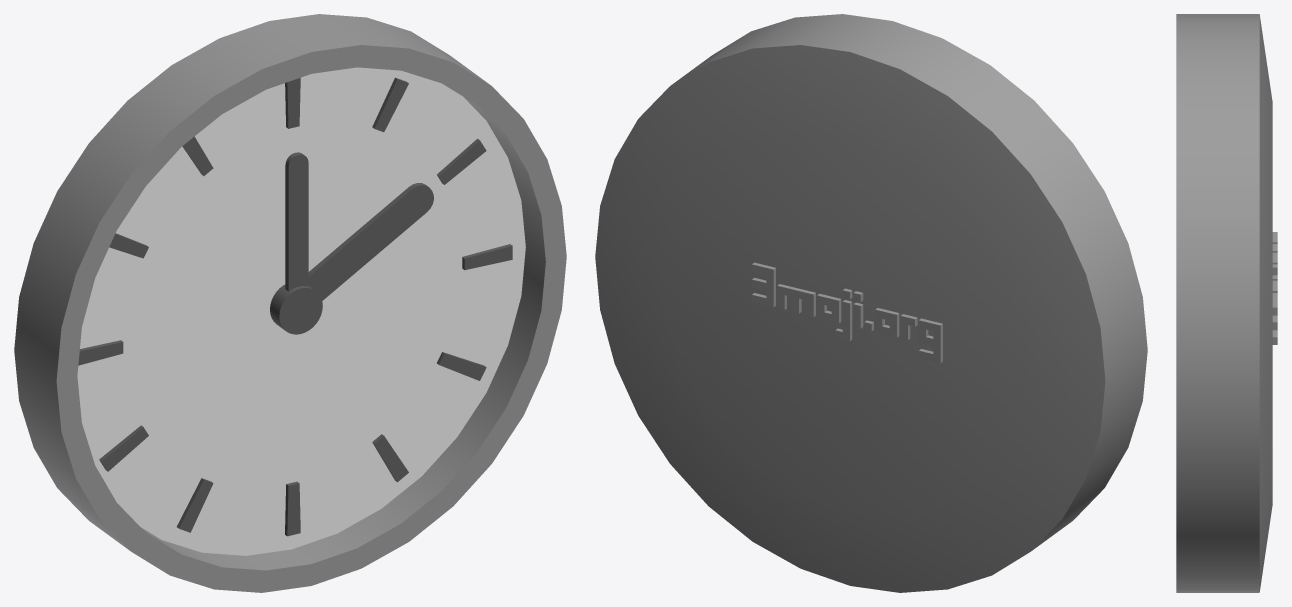
The model's file is two_oclock.fbx.
The picture shows the model from 3 angles, left to right: view 1: azimuth 30°, elevation 25°; view 2: azimuth 150°, elevation 25°; view 3: azimuth 270°, elevation 25°; orthographic projection.
Parts seen in each view (by area): view 1: Circle.2441; view 2: Circle.2441; view 3: Circle.2441.
Boxes of the visible parts, left/top/right/bottom form: Circle.2441: left=14, top=14, right=566, bottom=592; Circle.2441: left=595, top=14, right=1147, bottom=592; Circle.2441: left=1176, top=14, right=1277, bottom=592.
Size of the model in its own units: 233 by 233 by 40.69.
Materials: 1 (1 with a texture image).
